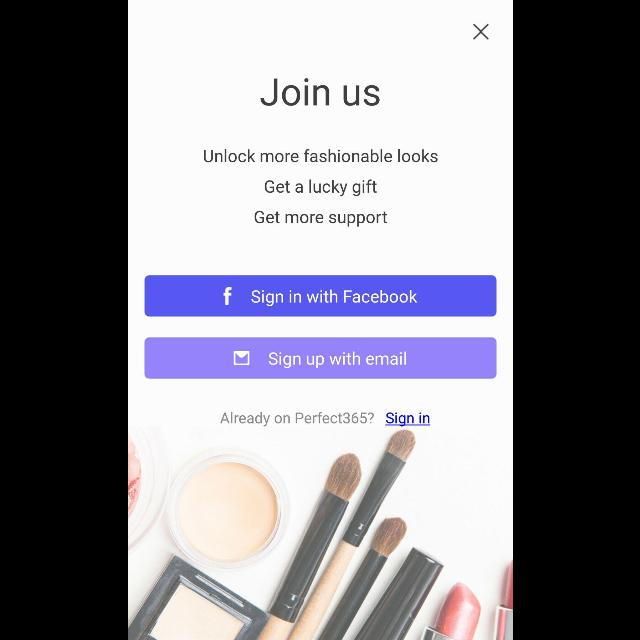backgroundimage: (128, 1, 512, 640)
icon: (472, 24, 488, 40)
image: (128, 428, 512, 640)
text: (259, 78, 379, 106), (203, 150, 437, 162), (219, 412, 373, 426), (254, 211, 386, 227), (264, 180, 376, 197), (384, 413, 430, 427)
textbutton: (144, 275, 496, 317), (144, 338, 496, 378)
